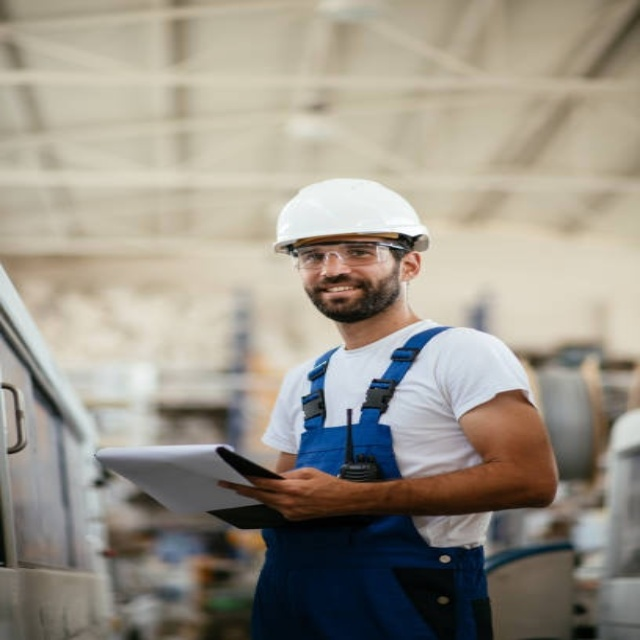Gafas: (291, 243, 409, 272)
Sin_guantes: (212, 467, 350, 523)
Sin_mascara: (314, 278, 367, 307)
